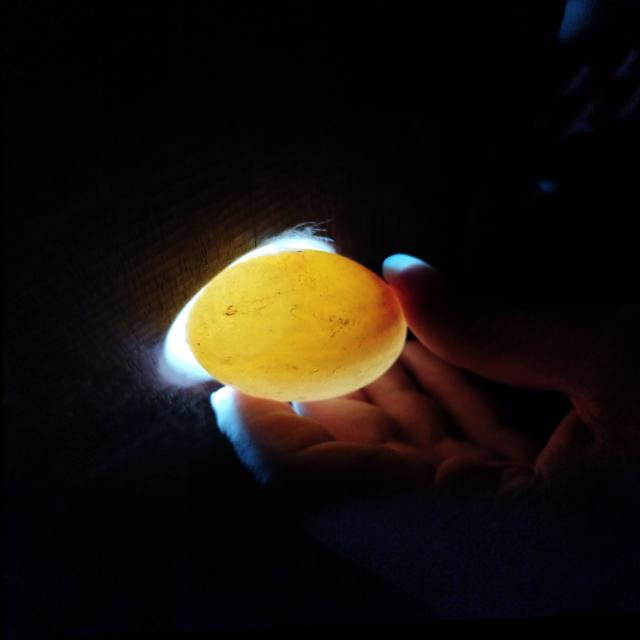Camara de Ar: (184, 267, 292, 362)
Gema Quebrada: (363, 271, 407, 338)
